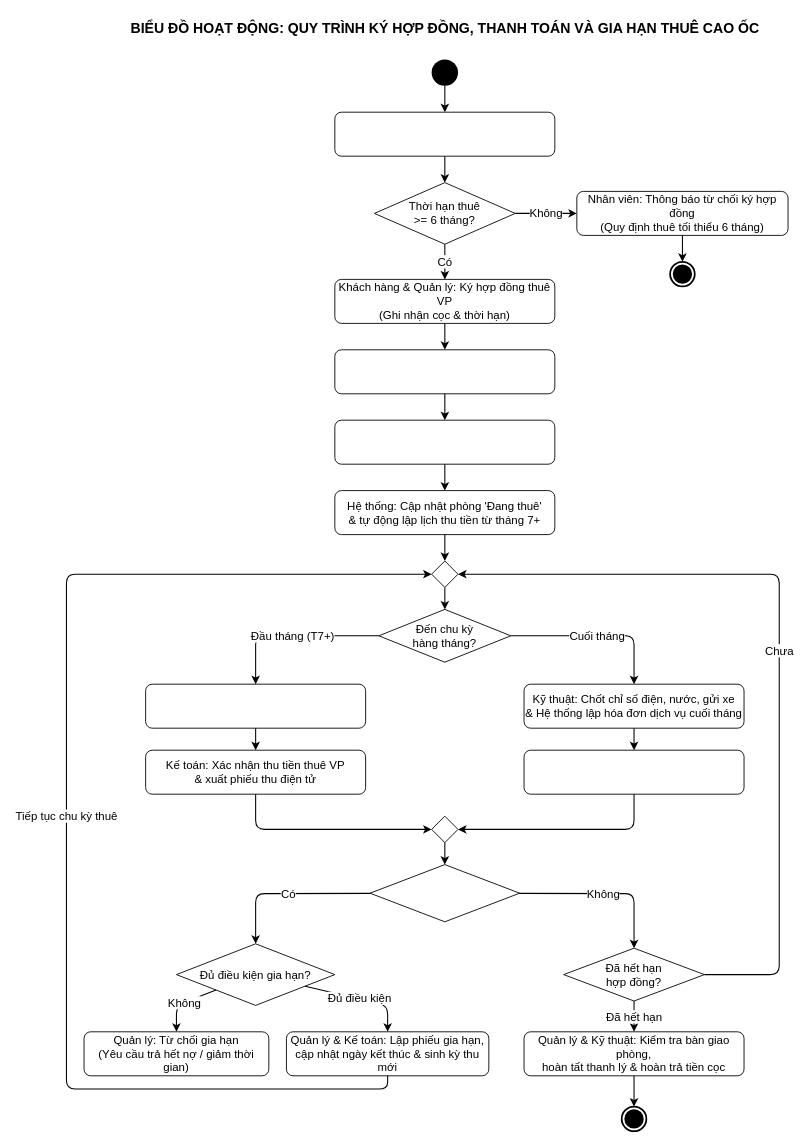
Image size: 809x1147. Some labels were removed from this diagram. The shapes that lost their labels are listed below. From the top down, each one's centre as x and y in pixels, then its label:
At pixel 444 133: "Khách hàng: Chọn văn phòng còn trống & thời hạn thuê mong muốn".
At pixel 444 371: "Khách hàng: Thanh toán tiền đặt cọc & tiền thuê 6 tháng đầu".
At pixel 444 441: "Kế toán: Xác nhận thu tiền, xuất hóa đơn cọc & bàn giao chìa khóa văn phòng".
At pixel 255 705: "Hệ thống: Xuất thông báo tiền thuê (kỳ T7+) & Khách hàng thanh toán đầu tháng".
At pixel 633 771: "Khách hàng: Thanh toán phí dịch vụ & Kế toán xuất biên lai thu dịch vụ".
At pixel 444 893: "Khách hàng muốn gia hạn hợp đồng?".
